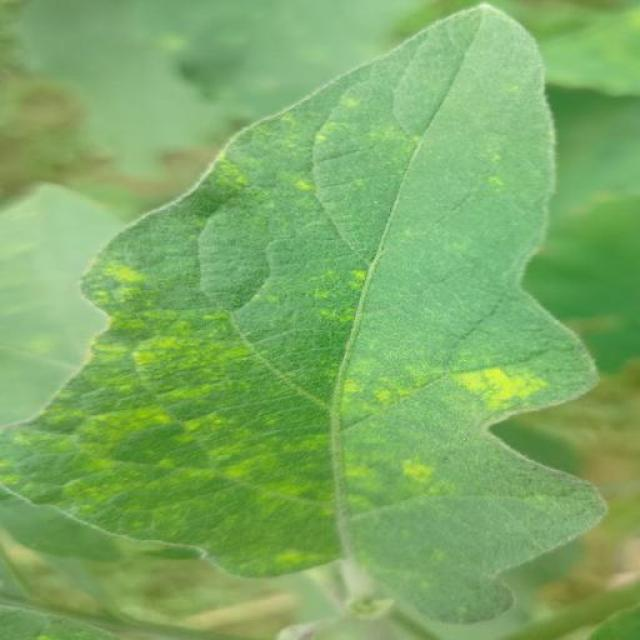leaf_spot: (0, 428, 163, 544), (292, 422, 456, 526), (135, 298, 268, 405), (174, 418, 306, 520), (33, 371, 195, 445), (362, 546, 481, 618), (313, 362, 431, 411), (443, 357, 546, 413), (324, 247, 389, 335), (249, 120, 365, 166), (84, 314, 149, 394), (77, 253, 149, 318), (366, 117, 428, 170), (206, 142, 253, 198), (269, 541, 350, 568), (283, 158, 324, 210), (331, 88, 362, 113), (483, 165, 506, 196)
